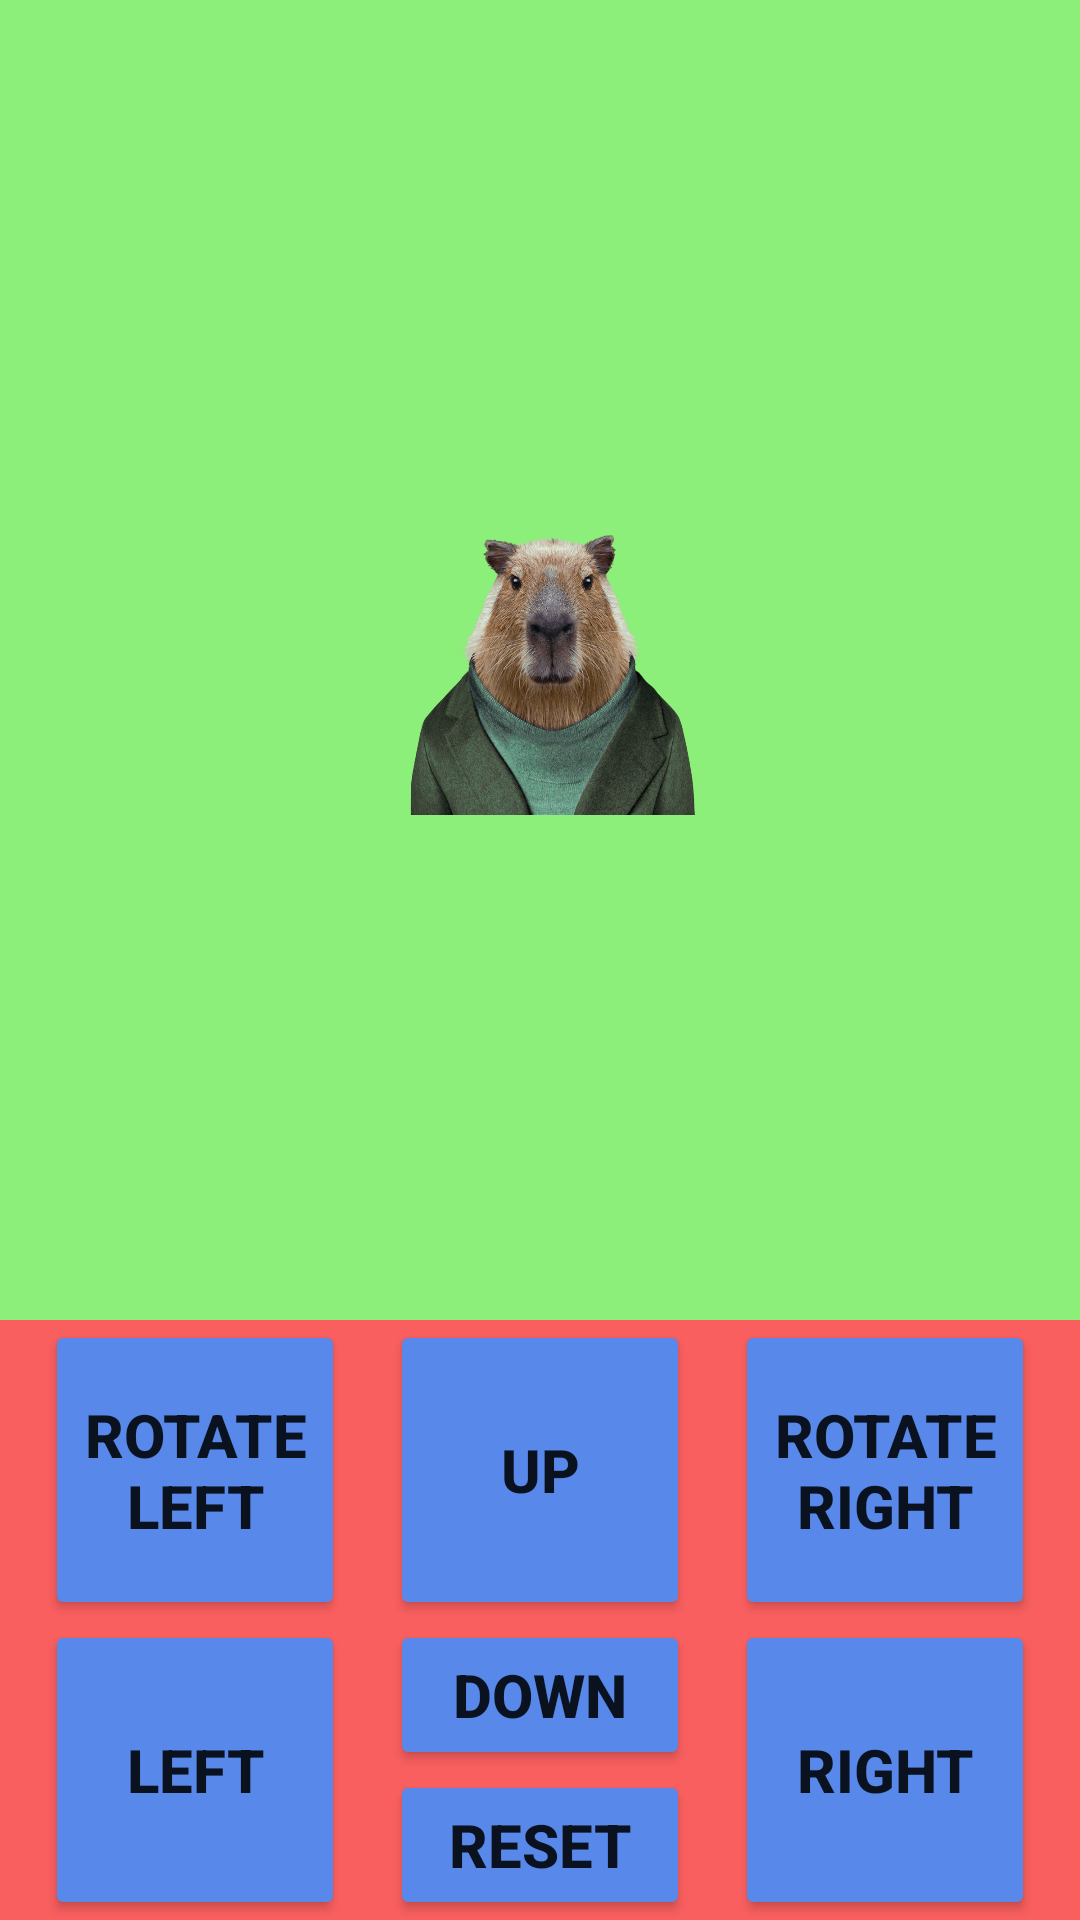

Icon click points for this 1080x1920 phone screenshot, format (x,y):
kopibara: (553,675)
